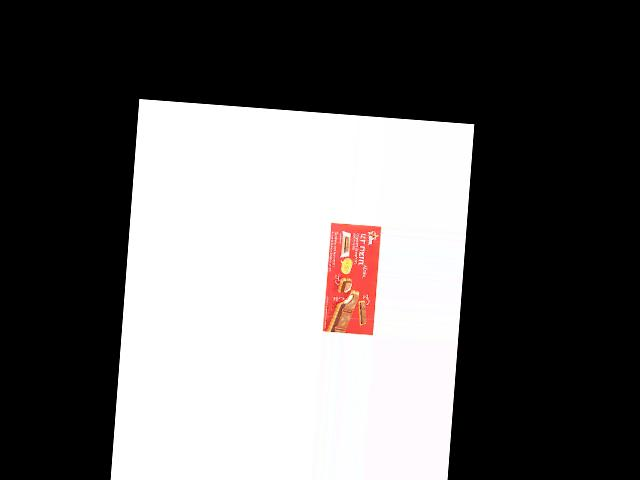chocolate: (322, 220, 381, 335)
